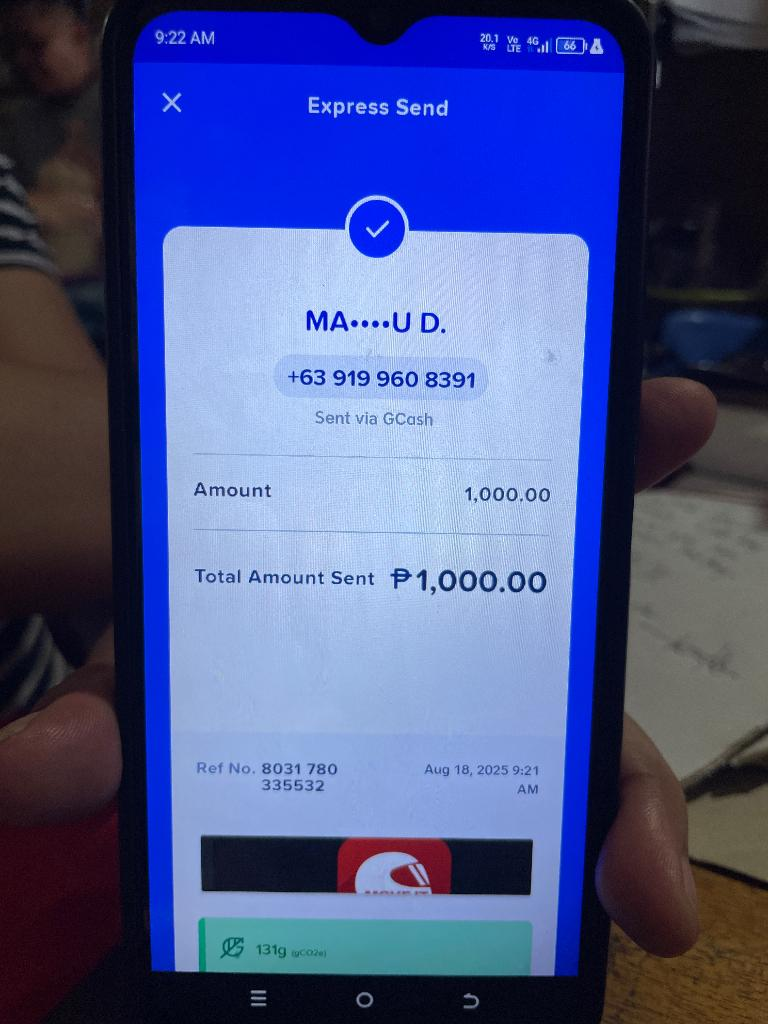Receipt: (138, 64, 623, 977)
